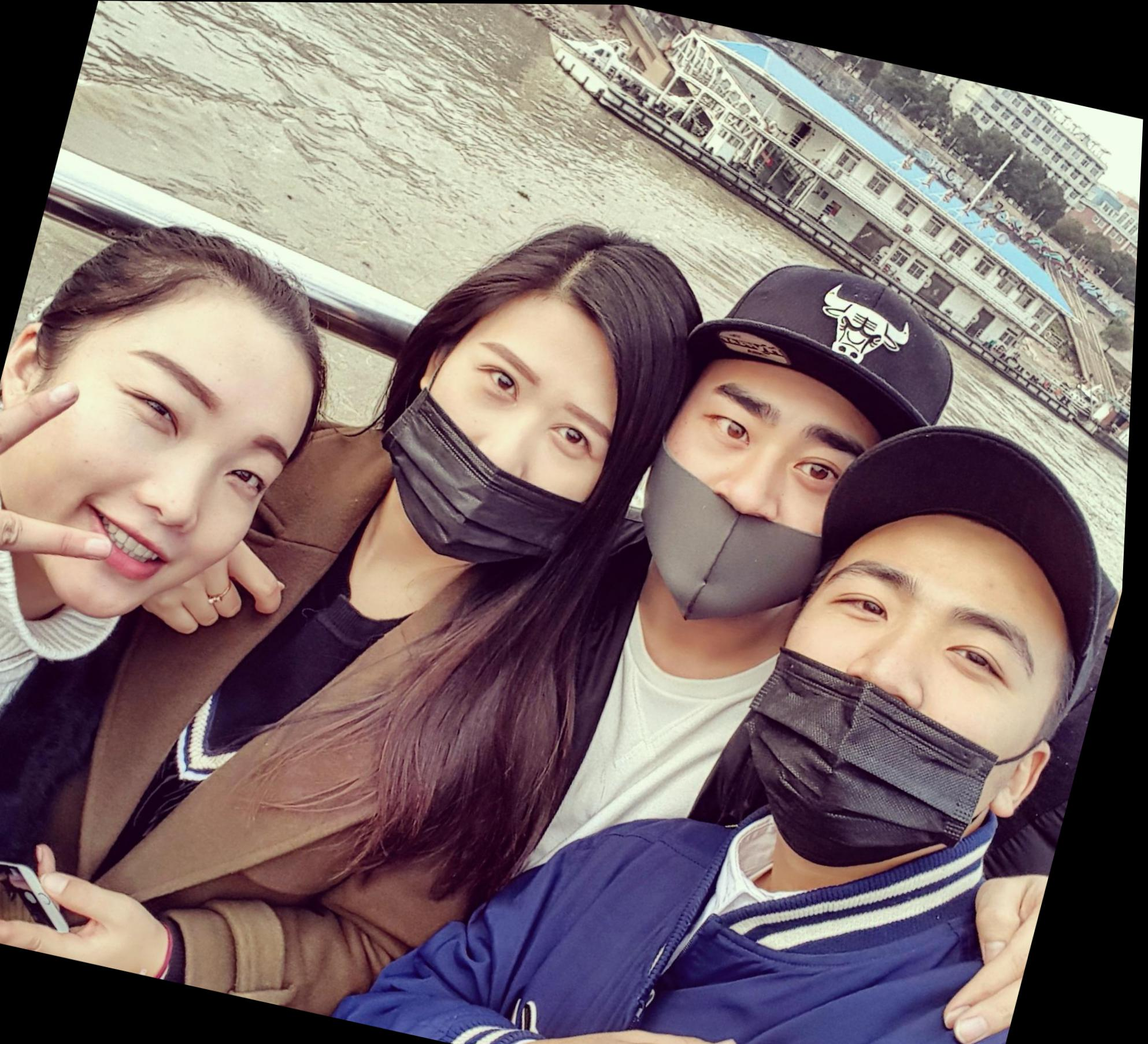NONE: (18, 324, 331, 658)
WRONG: (721, 529, 1119, 915), (617, 364, 923, 661), (376, 311, 653, 595)
